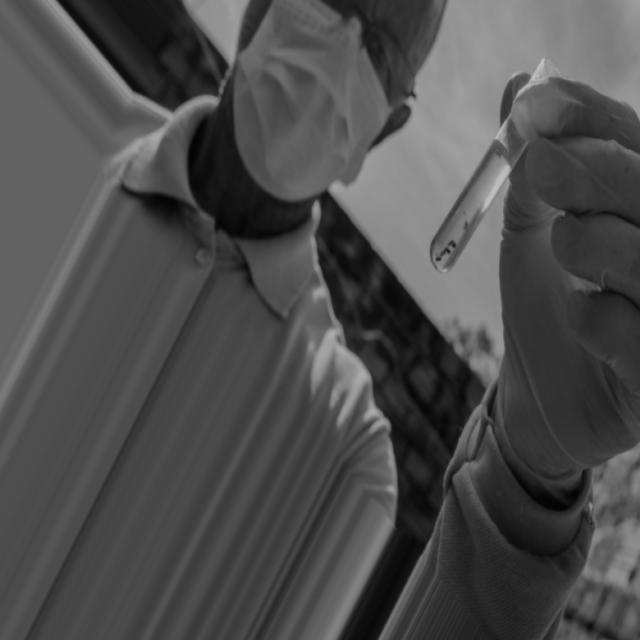larvas: (440, 247, 450, 255), (448, 240, 456, 249), (435, 251, 441, 261), (464, 221, 468, 230)
